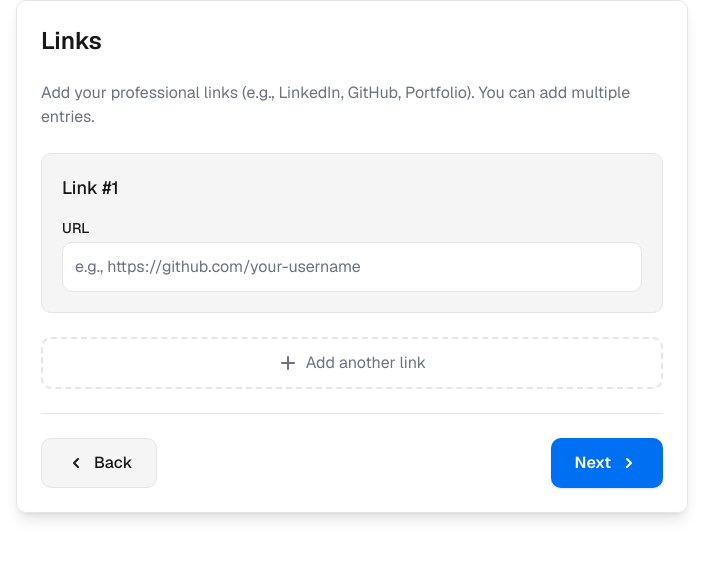
LinksForm Component › Walidacja i przesyłanie (Submit) › powinien wyświetlić błąd walidacji, jeśli pole jest puste podczas próby zapisu
This screenshot has width=705, height=563.
Click the button "Next" at (607, 463), box x1=551 y1=438 x2=663 y2=488
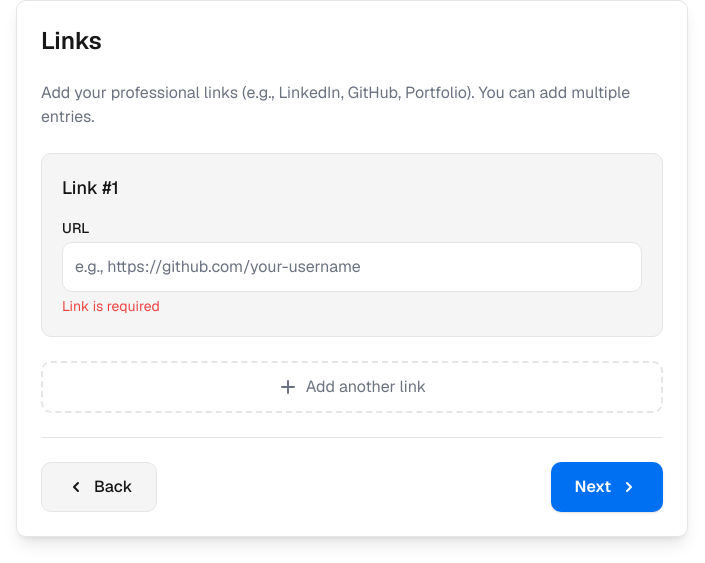
Expected: the text "Link is required" is shown, x1=62 y1=297 x2=160 y2=315
